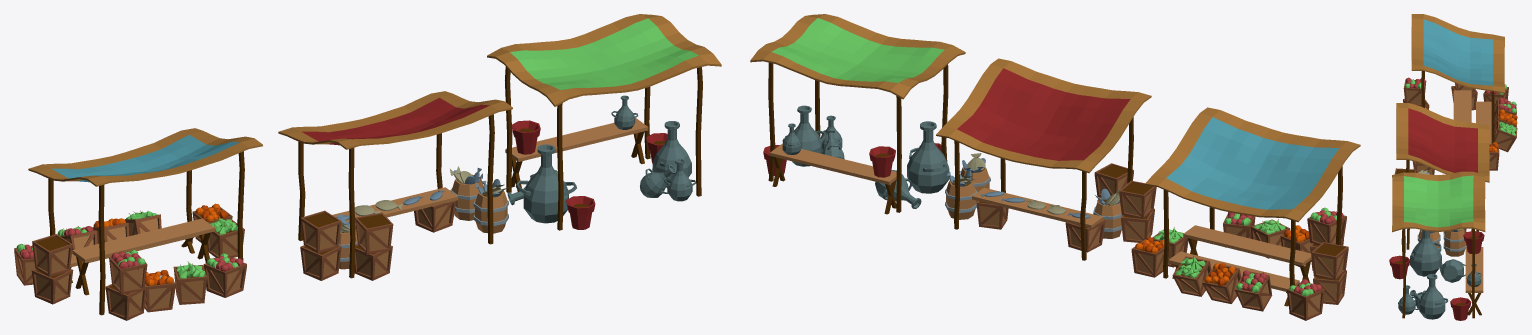
Rendered from market_props.glb.
3 renders of one model, left to right at view 1: azimuth 30°, elevation 25°; view 2: azimuth 150°, elevation 25°; view 3: azimuth 270°, elevation 25°, orthographic. The views are drawn at different scales.
Visible parts, largest first — view 1: polySurface483, polySurface528, polySurface636, polySurface493, polySurface585, polySurface484, polySurface543, polySurface643, polySurface541, polySurface490, polySurface542, polySurface641 (+26 smaller); view 2: polySurface636, polySurface528, polySurface483, polySurface493, polySurface585, polySurface484, polySurface523, polySurface643, polySurface543, polySurface473, polySurface490, polySurface541 (+21 smaller); view 3: polySurface636, polySurface483, polySurface528, polySurface493, polySurface490, polySurface585, polySurface484, polySurface537, polySurface494, polySurface580, polySurface544, polySurface497 (+18 smaller).
Boxes of the visible parts, box(x1,y1,x2,y2) form: polySurface483: box(487, 14, 721, 106); polySurface528: box(278, 91, 512, 149); polySurface636: box(28, 128, 262, 186); polySurface493: box(515, 144, 576, 223); polySurface585: box(72, 218, 215, 262); polySurface484: box(505, 118, 648, 161); polySurface543: box(300, 210, 341, 253); polySurface643: box(32, 234, 72, 276); polySurface541: box(355, 212, 393, 254); polySurface490: box(652, 121, 691, 185); polySurface542: box(300, 245, 341, 280); polySurface641: box(31, 268, 73, 304); polySurface636: box(1145, 107, 1360, 222); polySurface528: box(936, 58, 1151, 173); polySurface483: box(750, 14, 965, 99); polySurface493: box(907, 121, 949, 193); polySurface585: box(1183, 225, 1311, 265); polySurface484: box(769, 144, 896, 184); polySurface523: box(972, 187, 1103, 228); polySurface643: box(1311, 242, 1348, 280); polySurface543: box(1119, 180, 1156, 218); polySurface473: box(1286, 283, 1324, 320); polySurface490: box(782, 105, 826, 166); polySurface541: box(1094, 163, 1133, 197); polySurface636: box(1411, 14, 1504, 93); polySurface483: box(1392, 171, 1485, 232); polySurface528: box(1396, 103, 1489, 182); polySurface493: box(1410, 230, 1442, 276); polySurface490: box(1416, 274, 1448, 319); polySurface585: box(1453, 90, 1471, 122); polySurface484: box(1465, 247, 1483, 292); polySurface537: box(1443, 228, 1466, 256); polySurface494: box(1439, 259, 1465, 282); polySurface580: box(1476, 101, 1491, 144); polySurface544: box(1494, 120, 1517, 152); polySurface497: box(1450, 297, 1471, 320).
Bounding box in the file's own units: 22.41 × 5.32 × 5.74.
